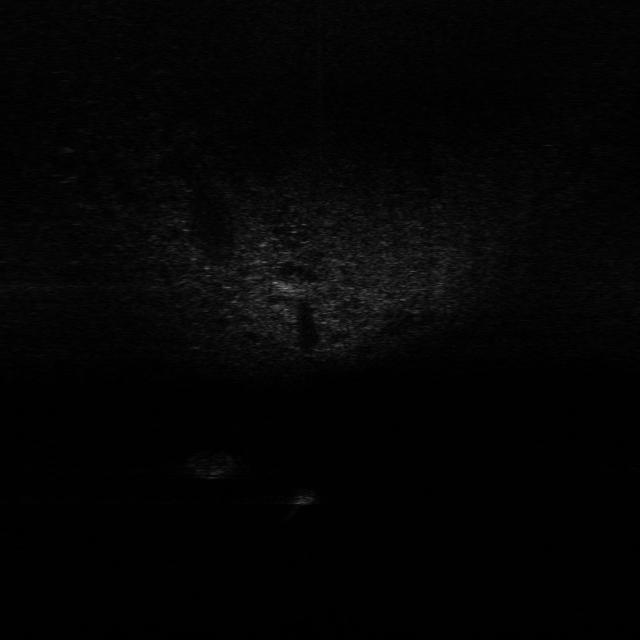circle cage: (179, 447, 252, 479)
cylinder: (291, 486, 318, 525)
